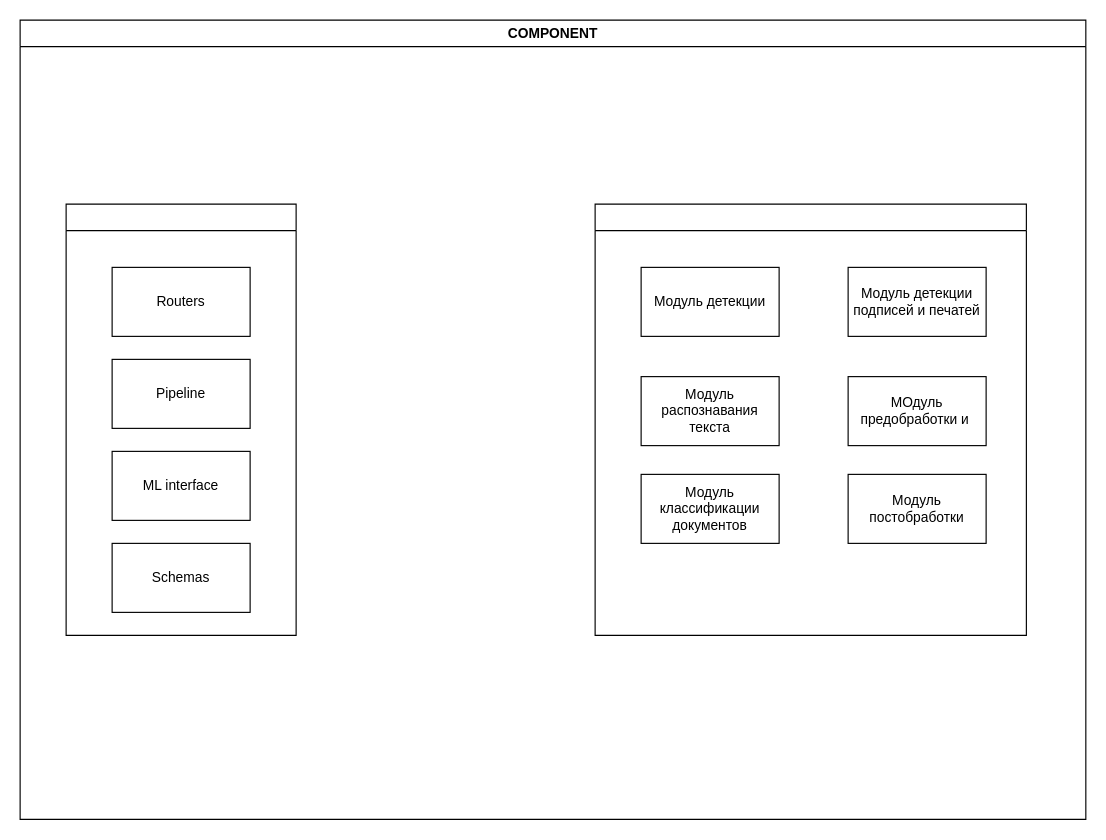
Image size: 1106x840. Some labels were removed from this diagram. Each missing label, with the box of its shape:
FASTAPI: (65, 203, 296, 635)
OCR: (594, 203, 1026, 635)
